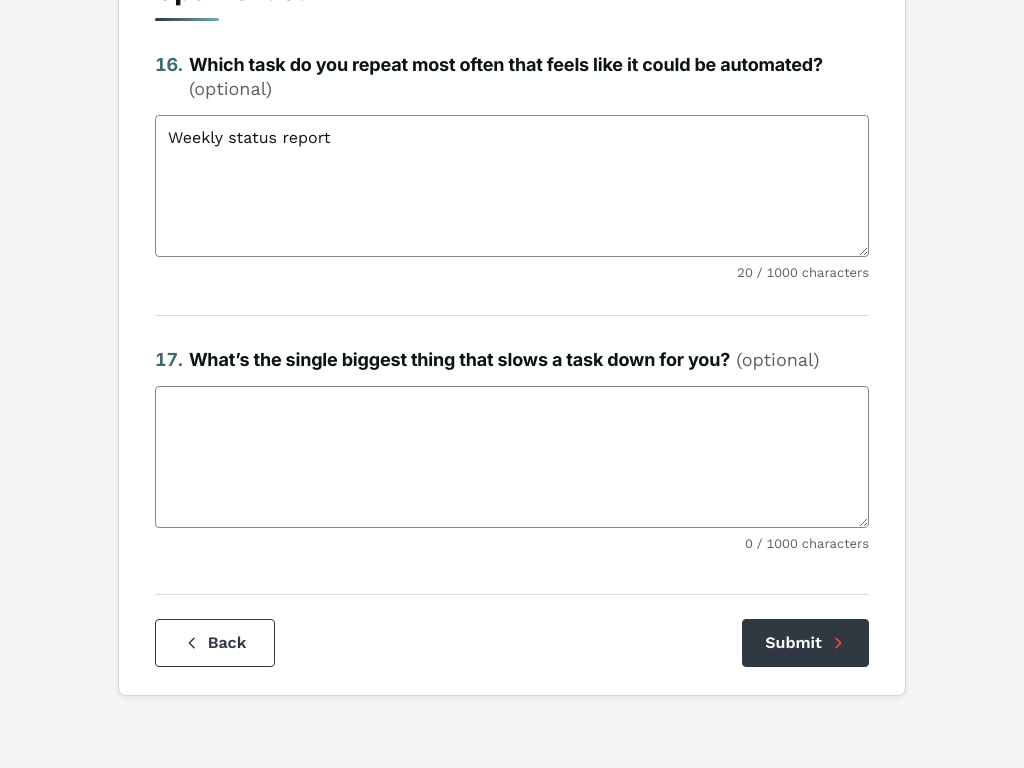
submission › shows the JSON and a download button when no submit URL is set, without showing the ID
(page scrolled)
Click the button "Submit" at (806, 643), box [742,619,869,667]
(page scrolled)
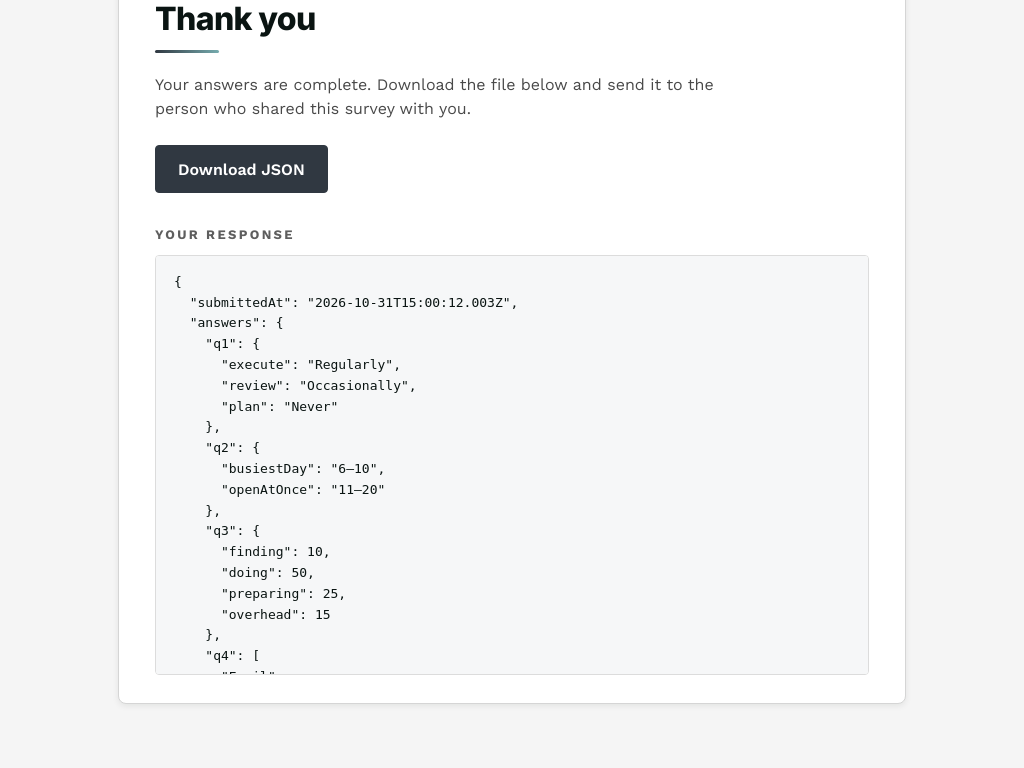
Now the heading "Thank you" is shown, box [155,0,316,38]
Now the button "Download JSON" is shown, box [155,145,328,193]
